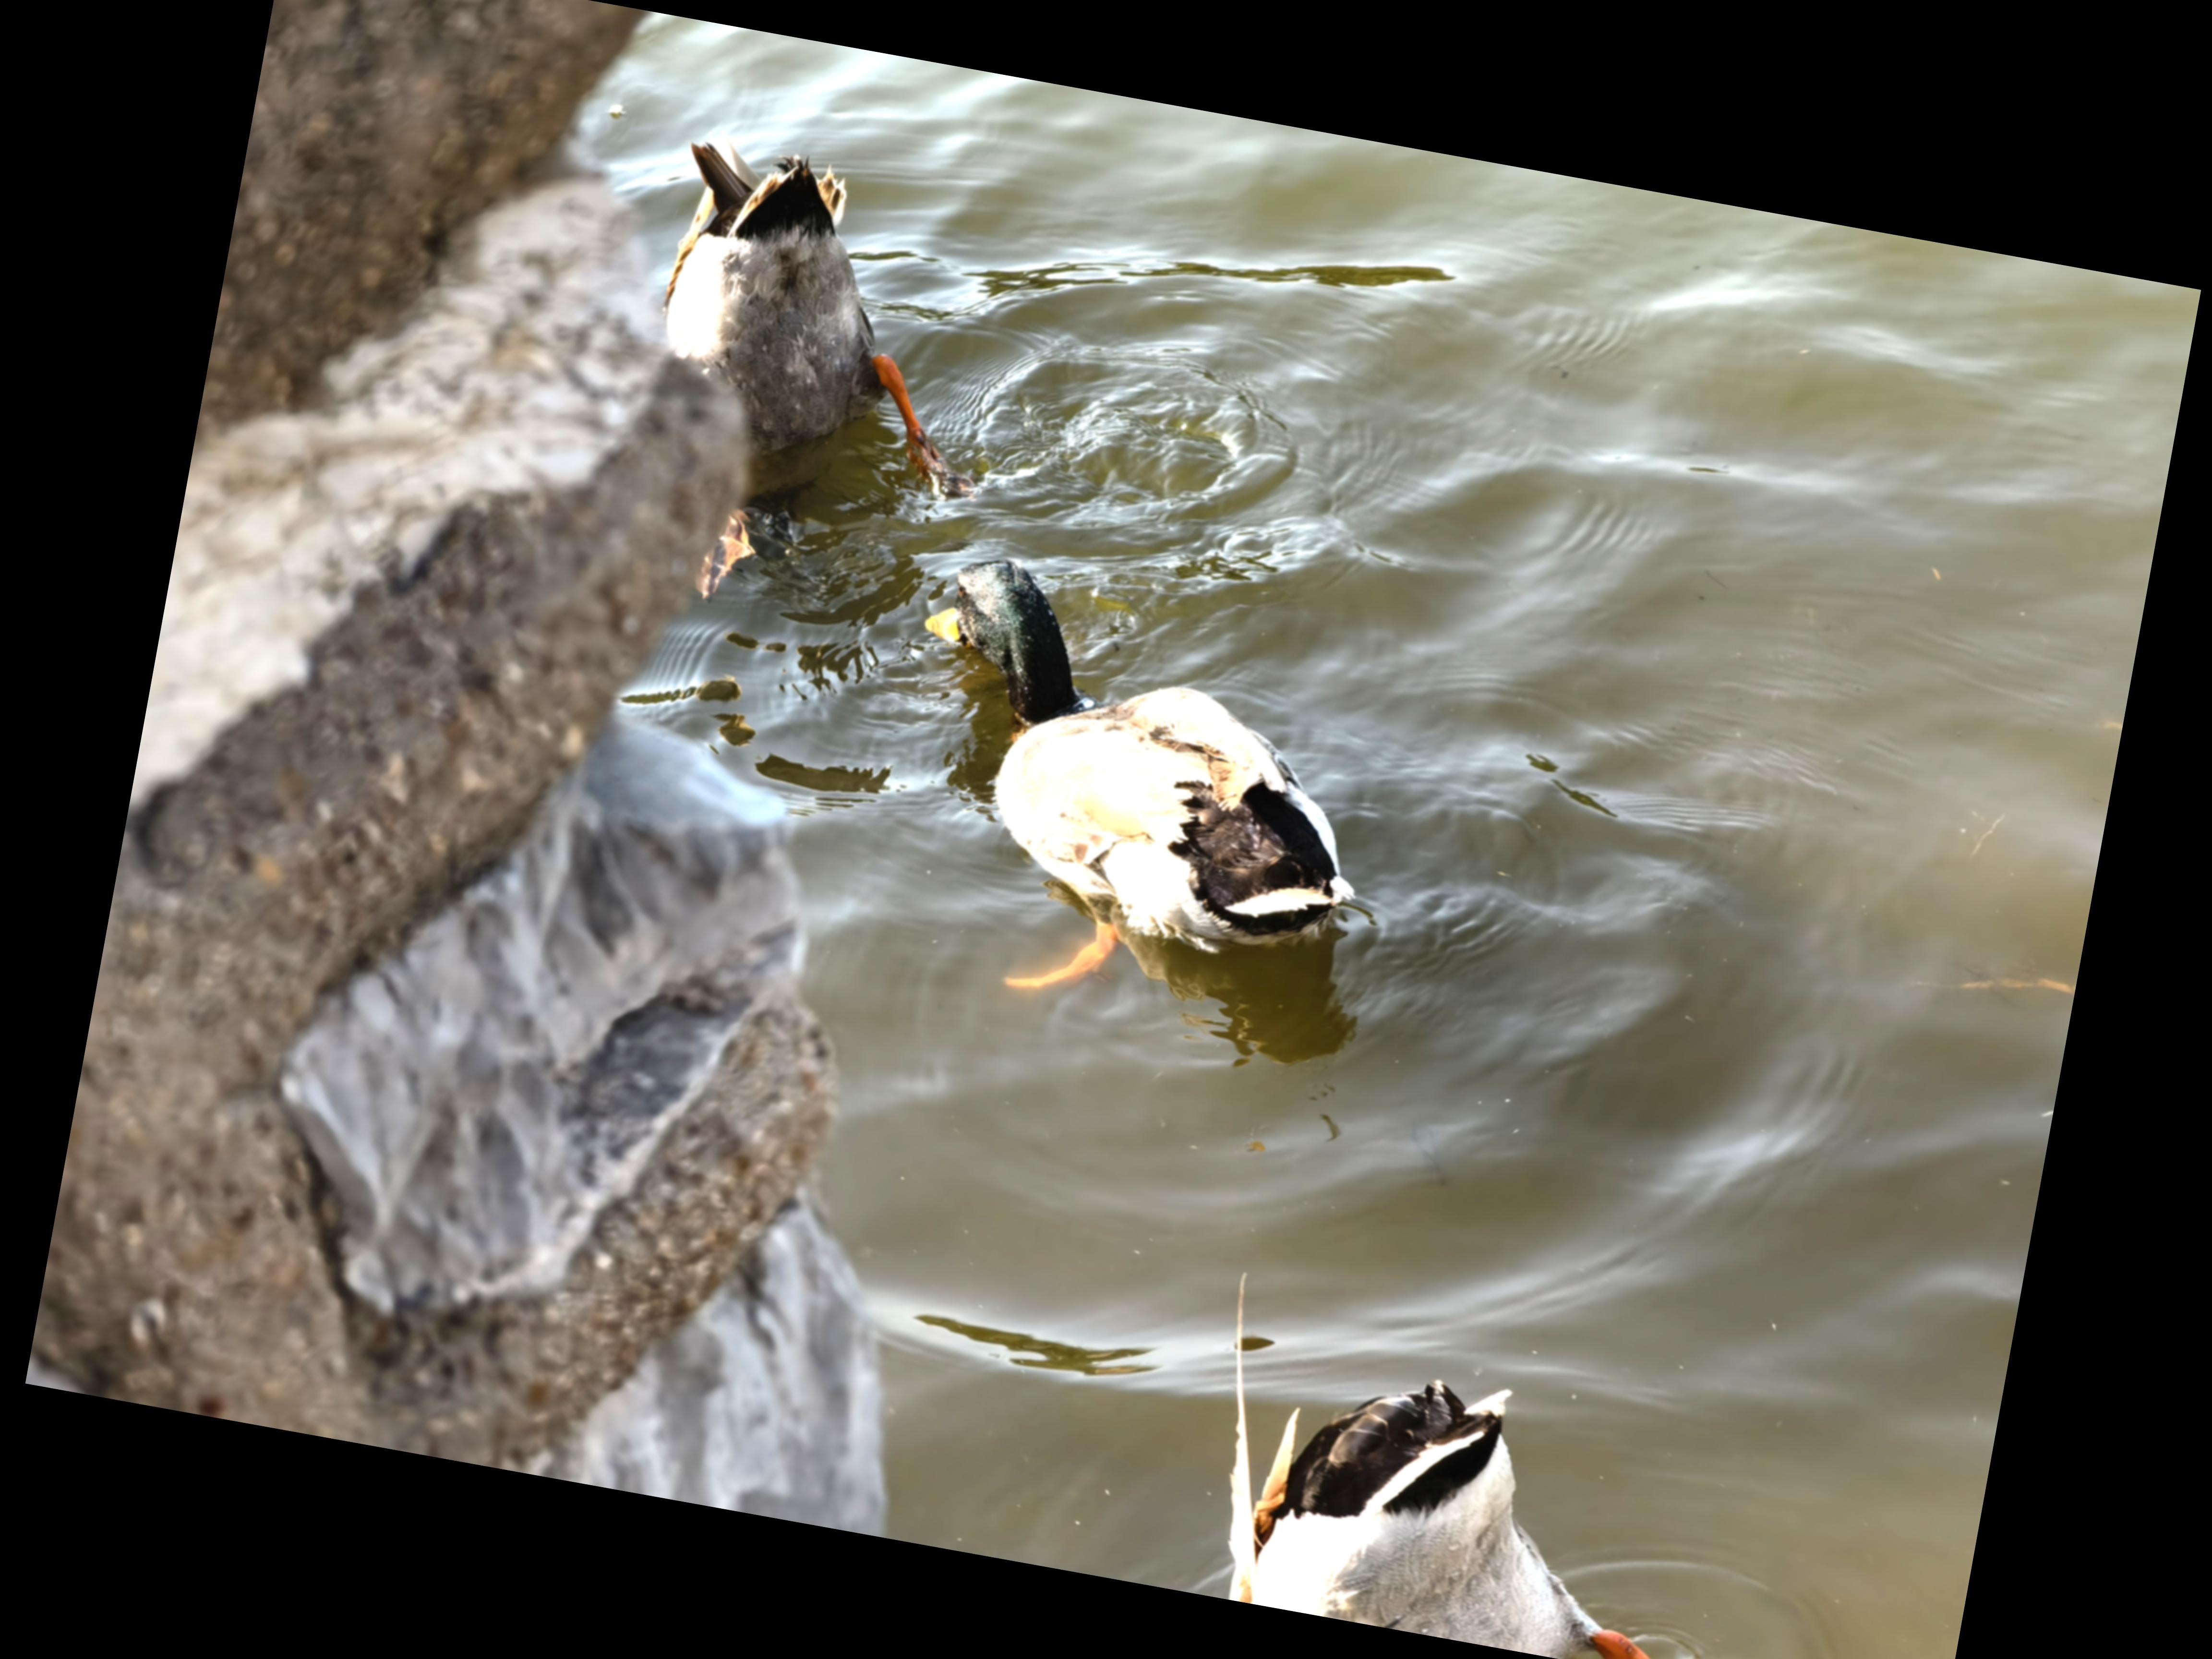duck: (857, 544, 1465, 1042), (1150, 1256, 1794, 1659), (585, 120, 1033, 605)
